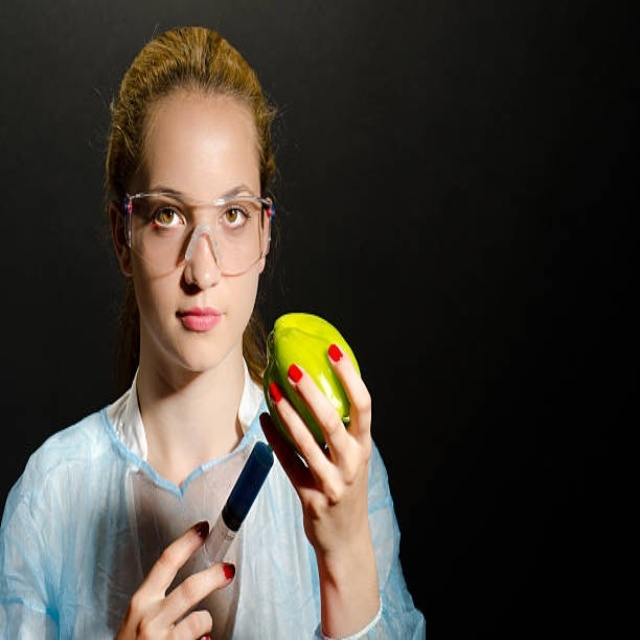Gafas: (121, 192, 275, 277)
Sin_guantes: (263, 338, 375, 558), (109, 515, 238, 640)
Sin_mascara: (165, 296, 230, 362)
